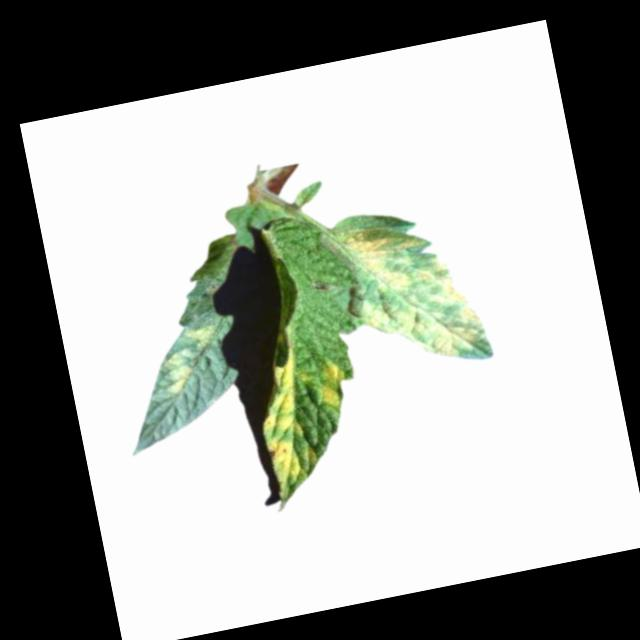Leaf_Mold: (340, 209, 489, 375), (246, 343, 324, 503), (313, 353, 351, 410), (159, 346, 200, 398), (184, 323, 217, 348)
